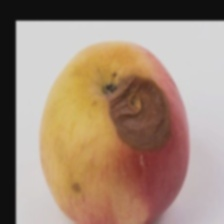apple: (42, 50, 206, 196)
